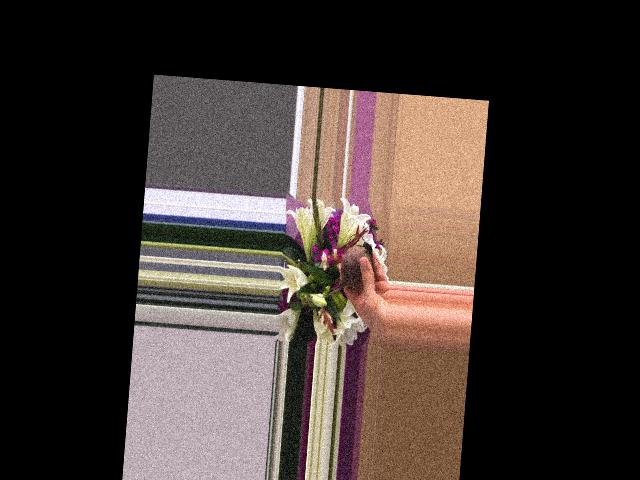beet: (316, 230, 374, 301)
